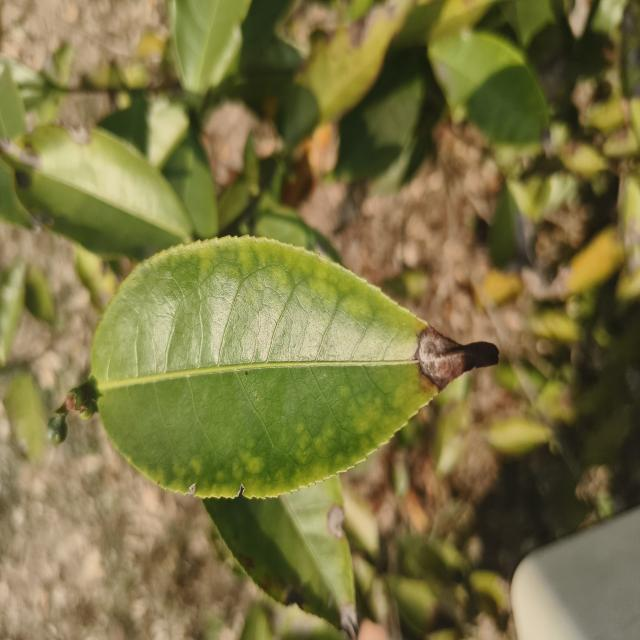Leaf: (91, 236, 498, 498), (0, 125, 194, 259), (204, 476, 357, 638), (297, 0, 413, 122), (429, 32, 549, 144), (335, 54, 426, 180), (168, 0, 251, 95), (162, 125, 218, 238), (4, 373, 46, 459), (488, 186, 528, 268), (0, 260, 26, 367), (343, 487, 380, 561), (435, 401, 470, 475)
